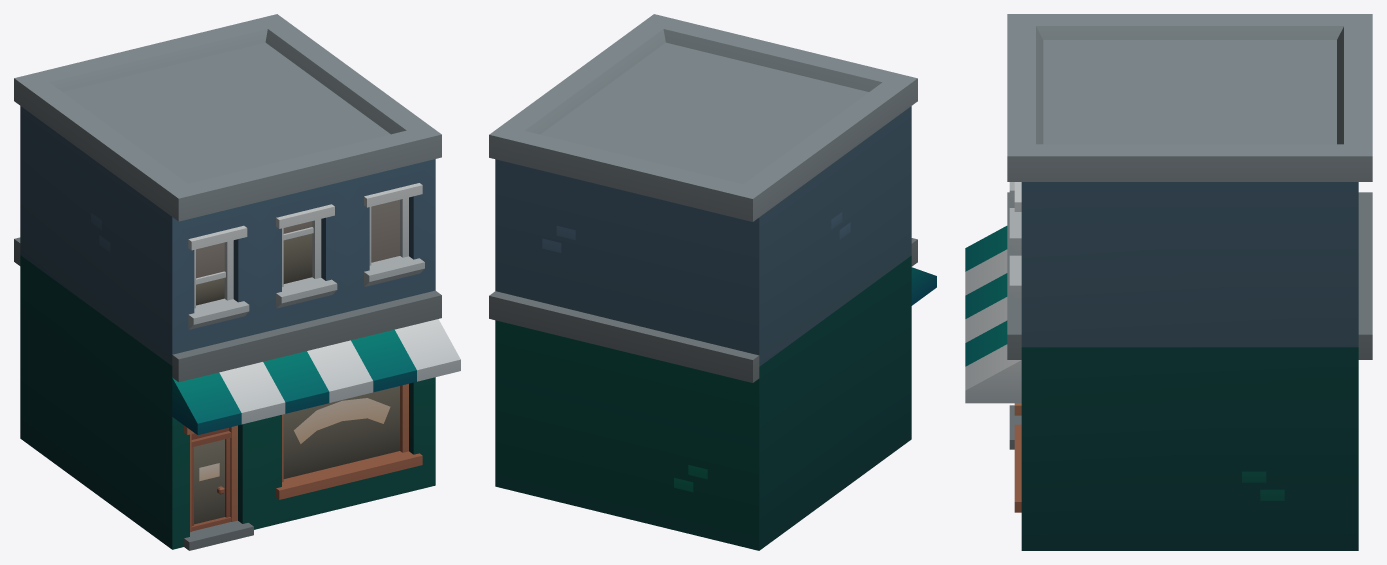
The model's file is city-building-a.glb.
3 views of the same model, side by side, from view 1: azimuth 30°, elevation 25°; view 2: azimuth 150°, elevation 25°; view 3: azimuth 270°, elevation 25° (orthographic). The views are drawn at different scales.
Parts seen in each view (by area): view 1: building_A_withoutBase; view 2: building_A_withoutBase; view 3: building_A_withoutBase.
Part boxes in pixels (box(x1,y1,x2,y2)): building_A_withoutBase: box(14, 14, 460, 550); building_A_withoutBase: box(489, 14, 936, 550); building_A_withoutBase: box(965, 14, 1372, 550).
Bounding box in the file's own units: 1.21 × 1.55 × 1.45.
